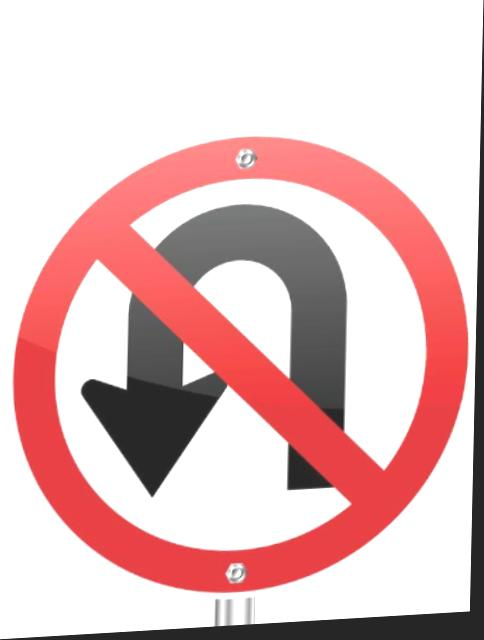not_u_turn_left: (5, 123, 481, 610)
